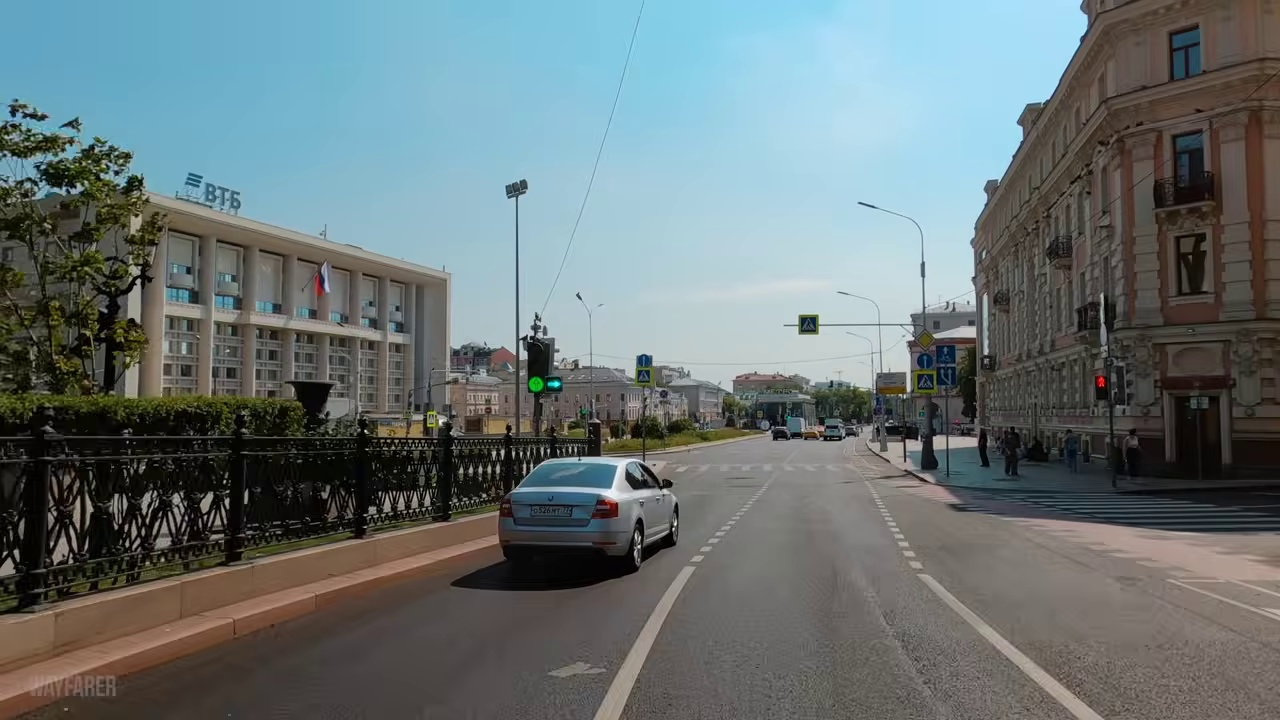apagada: (500, 176, 532, 205), (852, 195, 881, 218)
